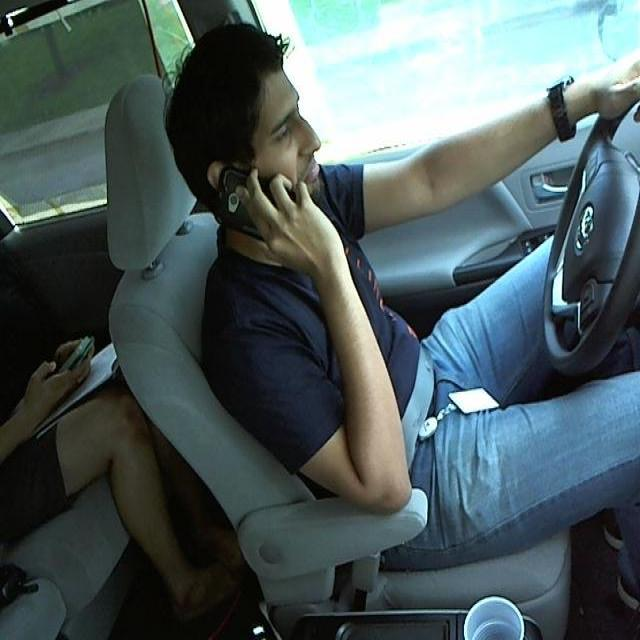without_using_phone: (121, 29, 414, 283)
